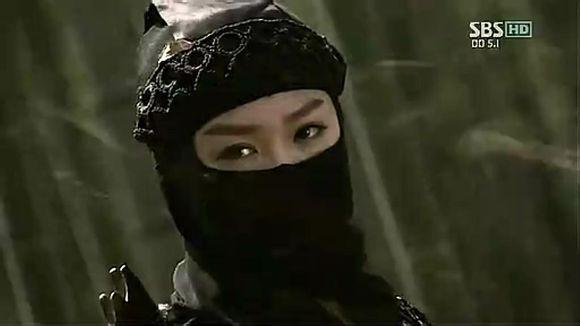OK: (191, 114, 351, 274)
